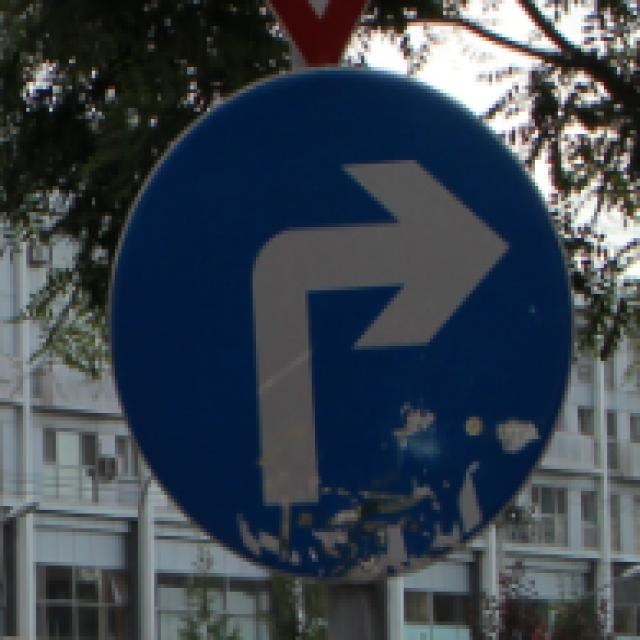Right: (105, 59, 580, 582)
